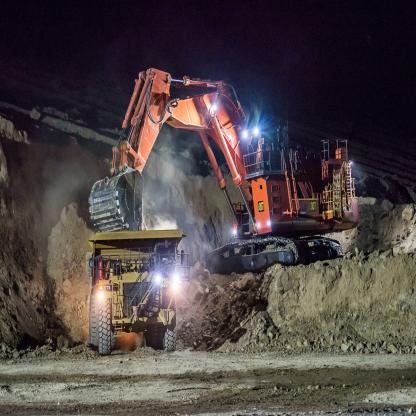dump_truck: (73, 219, 203, 353)
